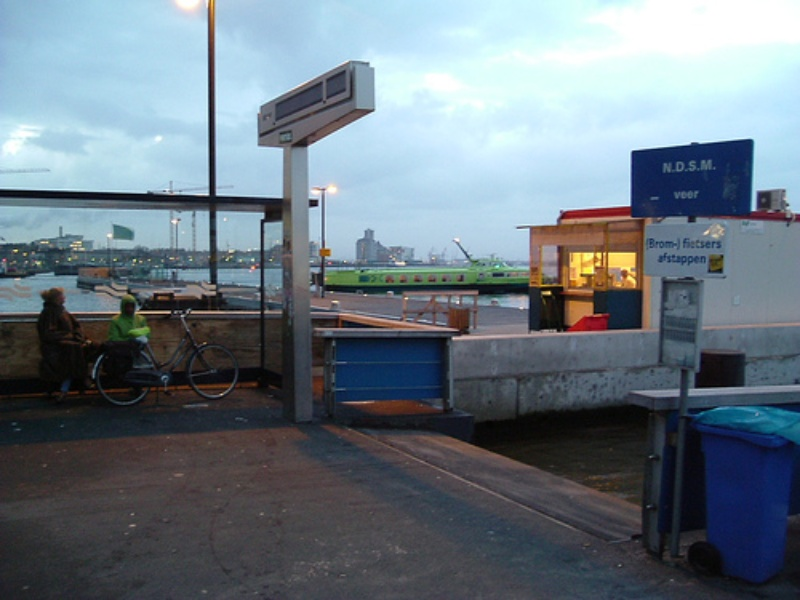person: (37, 288, 85, 403), (105, 295, 148, 346)
